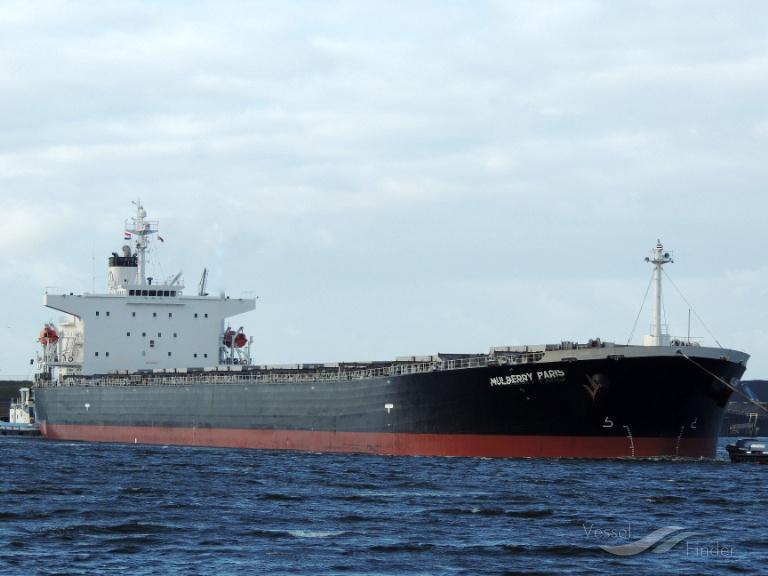OCR: (489, 370, 573, 388)
